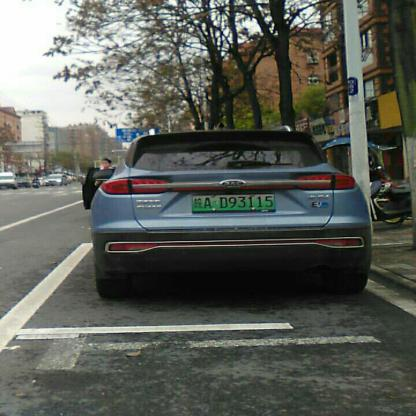lp: (192, 193, 274, 210)
